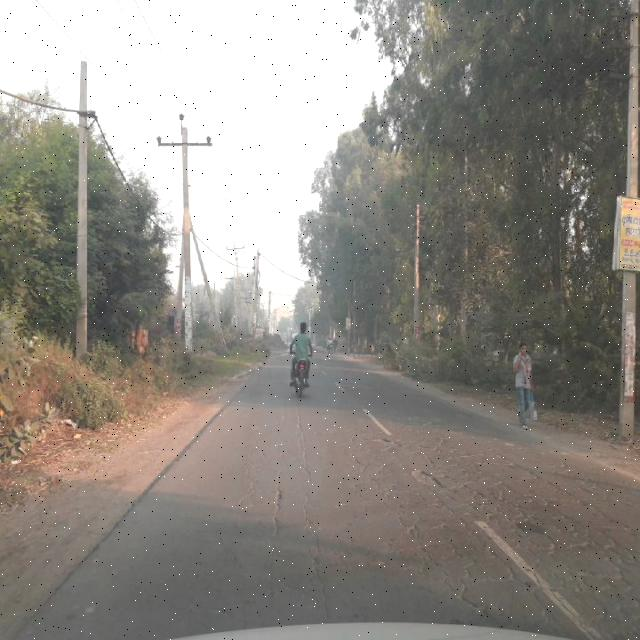D00: (223, 404, 334, 616)
D20: (364, 410, 639, 620)
D40: (368, 424, 445, 491)
